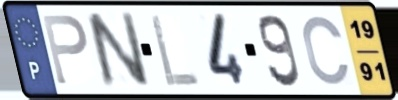4: (205, 10, 251, 90)
9: (258, 13, 302, 88)
C: (300, 13, 353, 88)
L: (148, 11, 203, 89)
N: (82, 9, 153, 91)
P: (39, 12, 90, 88)
